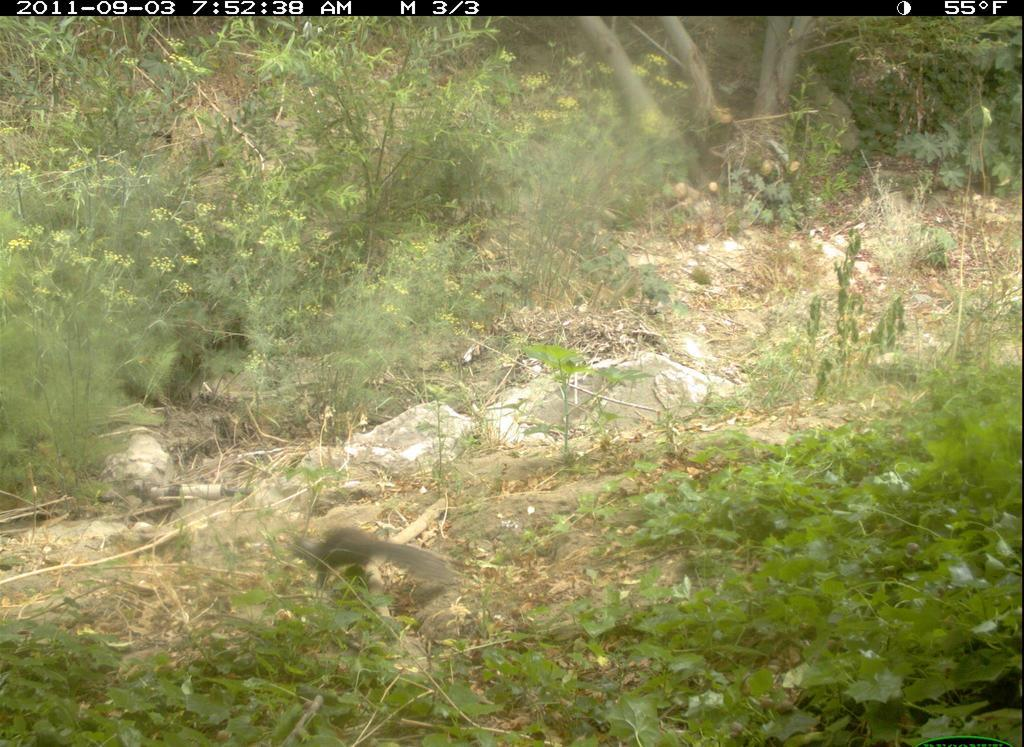squirrel: (271, 521, 464, 611)
